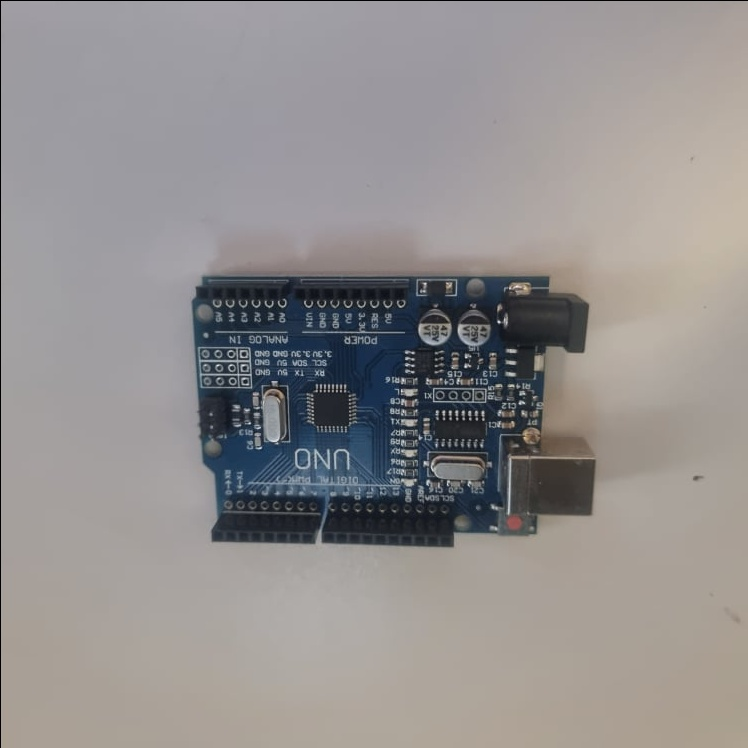UNO R3: (190, 271, 595, 548)
